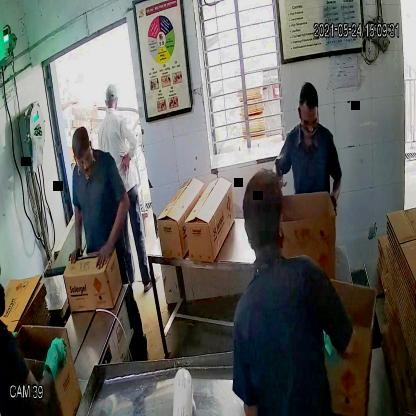goggles: (298, 108, 322, 134), (72, 150, 96, 172)
